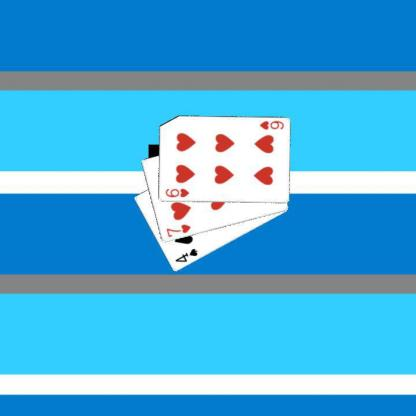4S: (173, 246, 199, 264)
6H: (162, 186, 190, 199), (257, 118, 284, 130)
7H: (163, 222, 192, 238)
